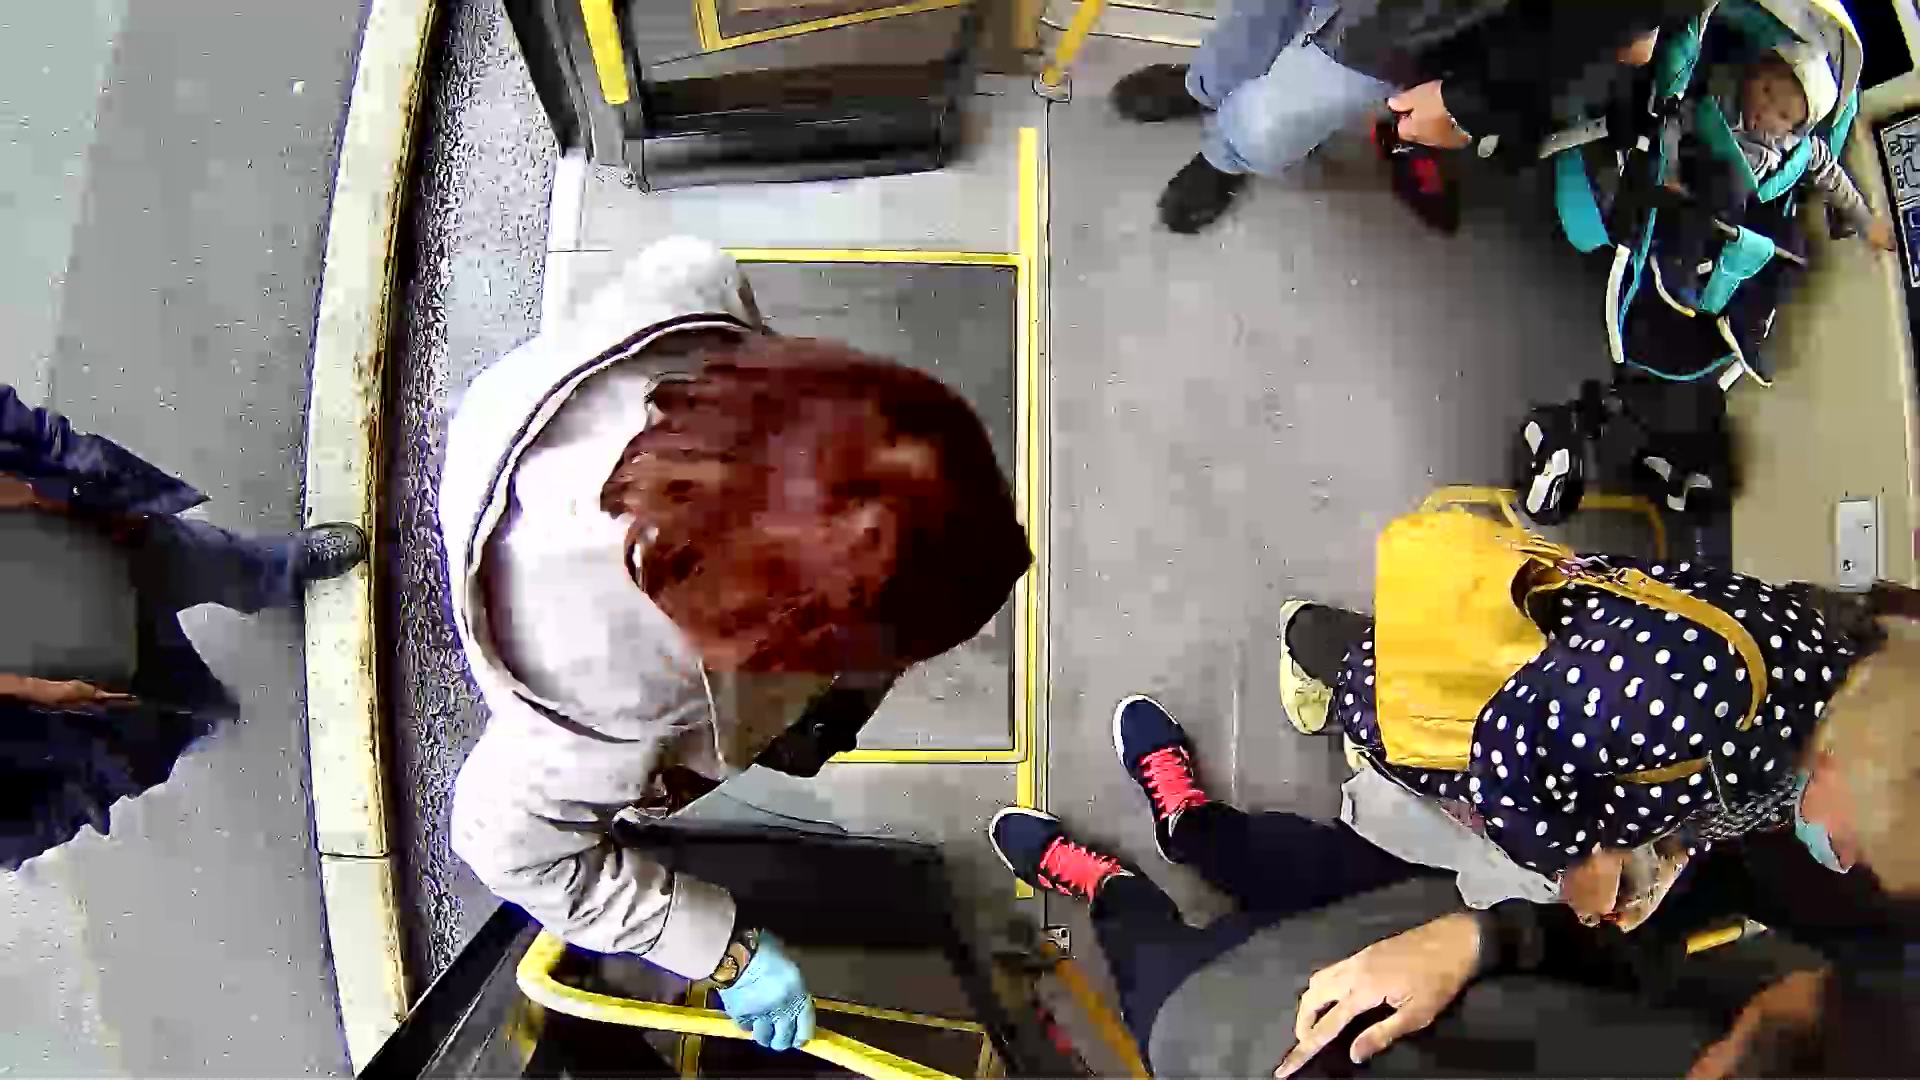person: (395, 236, 1079, 963)
